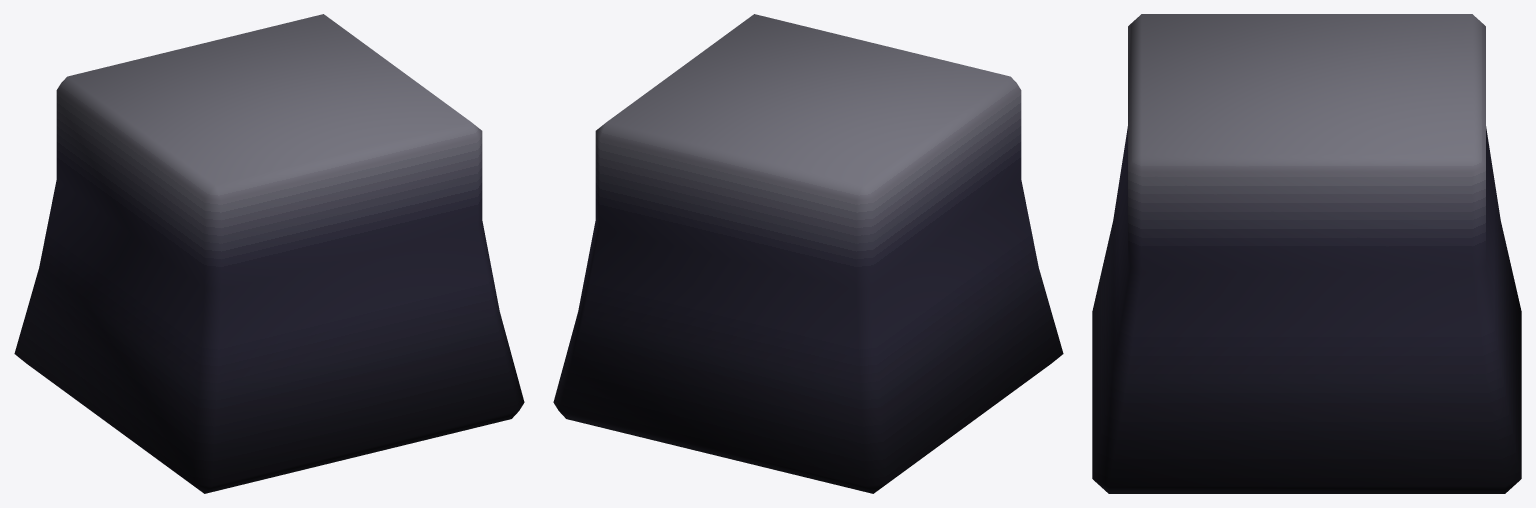
Rendered from test_slime2.glb.
The picture shows the model from 3 angles, left to right: view 1: azimuth 30°, elevation 25°; view 2: azimuth 150°, elevation 25°; view 3: azimuth 270°, elevation 25°; orthographic projection. The views are drawn at different scales.
Visible parts, largest first — view 1: SlimyJello; view 2: SlimyJello; view 3: SlimyJello.
Part boxes in pixels (x1,y1,x2,y2): SlimyJello: [14, 14, 524, 493]; SlimyJello: [553, 14, 1063, 493]; SlimyJello: [1092, 14, 1521, 493].
Bounding box in the file's own units: 2.4 × 2.01 × 2.4.
Materials: 1 (1 with a texture image).
